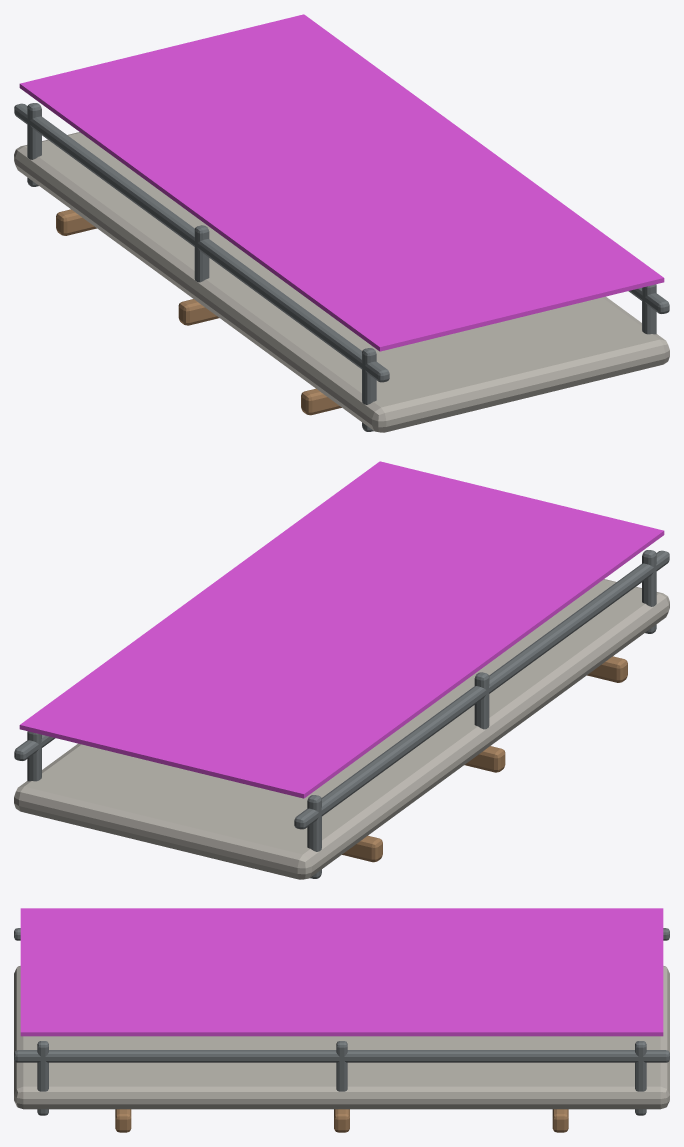
3 views of the same model, one above another, from view 1: azimuth 30°, elevation 25°; view 2: azimuth 150°, elevation 25°; view 3: azimuth 270°, elevation 25° (orthographic). The views are drawn at different scales.
Parts seen in each view (by area): view 1: NAV_MASK_MINI_VEHICLE_BRIDGE, LOD1_MINI_VEHICLE_BRIDGE_Deck, LOD1_MINI_VEHICLE_BRIDGE_Rail, LOD1_MINI_VEHICLE_BRIDGE_Post, LOD1_MINI_VEHICLE_BRIDGE_Post.002, LOD1_MINI_VEHICLE_BRIDGE_CrossBeam_02, LOD1_MINI_VEHICLE_BRIDGE_CrossBeam_01, LOD1_MINI_VEHICLE_BRIDGE_CrossBeam_03, LOD1_MINI_VEHICLE_BRIDGE_Post.001; view 2: NAV_MASK_MINI_VEHICLE_BRIDGE, LOD1_MINI_VEHICLE_BRIDGE_Deck, LOD1_MINI_VEHICLE_BRIDGE_Rail, LOD1_MINI_VEHICLE_BRIDGE_Post, LOD1_MINI_VEHICLE_BRIDGE_Post.002, LOD1_MINI_VEHICLE_BRIDGE_CrossBeam_02, LOD1_MINI_VEHICLE_BRIDGE_CrossBeam_03, LOD1_MINI_VEHICLE_BRIDGE_CrossBeam_01, LOD1_MINI_VEHICLE_BRIDGE_Post.001; view 3: NAV_MASK_MINI_VEHICLE_BRIDGE, LOD1_MINI_VEHICLE_BRIDGE_Deck, LOD1_MINI_VEHICLE_BRIDGE_Rail.001, LOD1_MINI_VEHICLE_BRIDGE_Post.003, LOD1_MINI_VEHICLE_BRIDGE_Post.005, LOD1_MINI_VEHICLE_BRIDGE_Post.004, LOD1_MINI_VEHICLE_BRIDGE_CrossBeam_01, LOD1_MINI_VEHICLE_BRIDGE_CrossBeam_03, LOD1_MINI_VEHICLE_BRIDGE_CrossBeam_02.
Part boxes in pixels (x1,y1,x2,y2): NAV_MASK_MINI_VEHICLE_BRIDGE: (19, 14, 664, 351); LOD1_MINI_VEHICLE_BRIDGE_Deck: (14, 132, 669, 432); LOD1_MINI_VEHICLE_BRIDGE_Rail: (14, 103, 389, 382); LOD1_MINI_VEHICLE_BRIDGE_Post: (362, 348, 376, 431); LOD1_MINI_VEHICLE_BRIDGE_Post.002: (27, 103, 41, 186); LOD1_MINI_VEHICLE_BRIDGE_CrossBeam_02: (178, 299, 218, 325); LOD1_MINI_VEHICLE_BRIDGE_CrossBeam_01: (301, 388, 341, 415); LOD1_MINI_VEHICLE_BRIDGE_CrossBeam_03: (56, 209, 96, 235); LOD1_MINI_VEHICLE_BRIDGE_Post.001: (194, 225, 209, 282); NAV_MASK_MINI_VEHICLE_BRIDGE: (19, 461, 664, 798); LOD1_MINI_VEHICLE_BRIDGE_Deck: (14, 579, 669, 879); LOD1_MINI_VEHICLE_BRIDGE_Rail: (294, 550, 669, 829); LOD1_MINI_VEHICLE_BRIDGE_Post: (642, 550, 656, 633); LOD1_MINI_VEHICLE_BRIDGE_Post.002: (307, 795, 321, 878); LOD1_MINI_VEHICLE_BRIDGE_CrossBeam_02: (465, 746, 505, 772); LOD1_MINI_VEHICLE_BRIDGE_CrossBeam_03: (342, 835, 382, 862); LOD1_MINI_VEHICLE_BRIDGE_CrossBeam_01: (587, 656, 627, 682); LOD1_MINI_VEHICLE_BRIDGE_Post.001: (474, 672, 489, 729); NAV_MASK_MINI_VEHICLE_BRIDGE: (20, 908, 663, 1036); LOD1_MINI_VEHICLE_BRIDGE_Deck: (14, 966, 669, 1109); LOD1_MINI_VEHICLE_BRIDGE_Rail.001: (14, 1050, 669, 1062); LOD1_MINI_VEHICLE_BRIDGE_Post.003: (37, 1041, 48, 1115); LOD1_MINI_VEHICLE_BRIDGE_Post.005: (635, 1041, 646, 1115); LOD1_MINI_VEHICLE_BRIDGE_Post.004: (336, 1041, 347, 1091); LOD1_MINI_VEHICLE_BRIDGE_CrossBeam_01: (115, 1109, 131, 1132); LOD1_MINI_VEHICLE_BRIDGE_CrossBeam_03: (552, 1109, 568, 1132); LOD1_MINI_VEHICLE_BRIDGE_CrossBeam_02: (334, 1109, 349, 1132).
Size of what is drawn, in the model's own units: 4.55 by 1.42 by 9.
